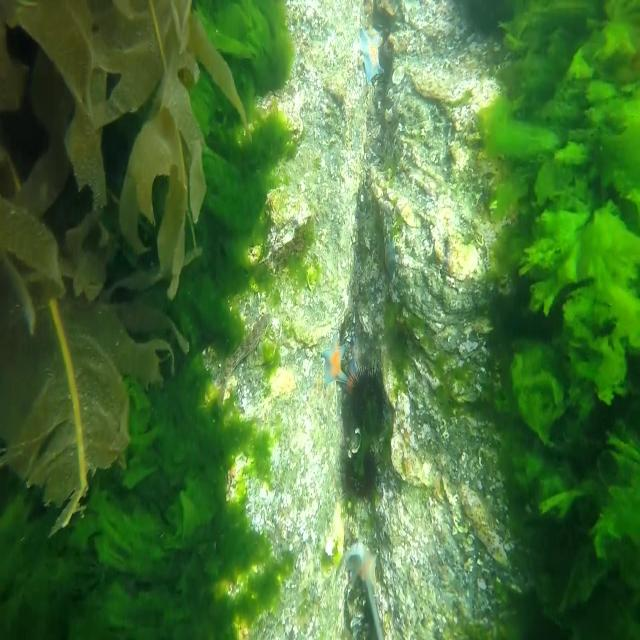echinus: (341, 352, 390, 439), (336, 440, 386, 517)
starfish: (345, 538, 382, 602), (318, 332, 352, 389), (355, 26, 385, 86), (384, 236, 399, 280)
